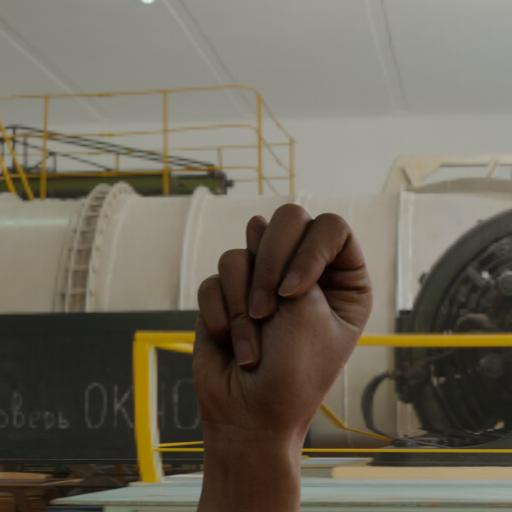N: (168, 196, 389, 512)
